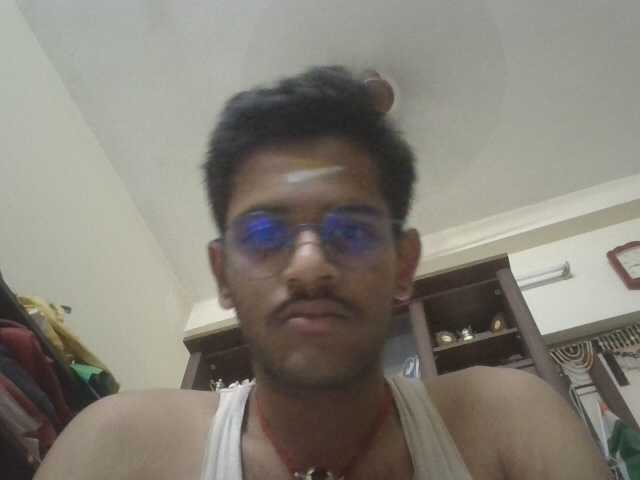real: (196, 138, 426, 368)
